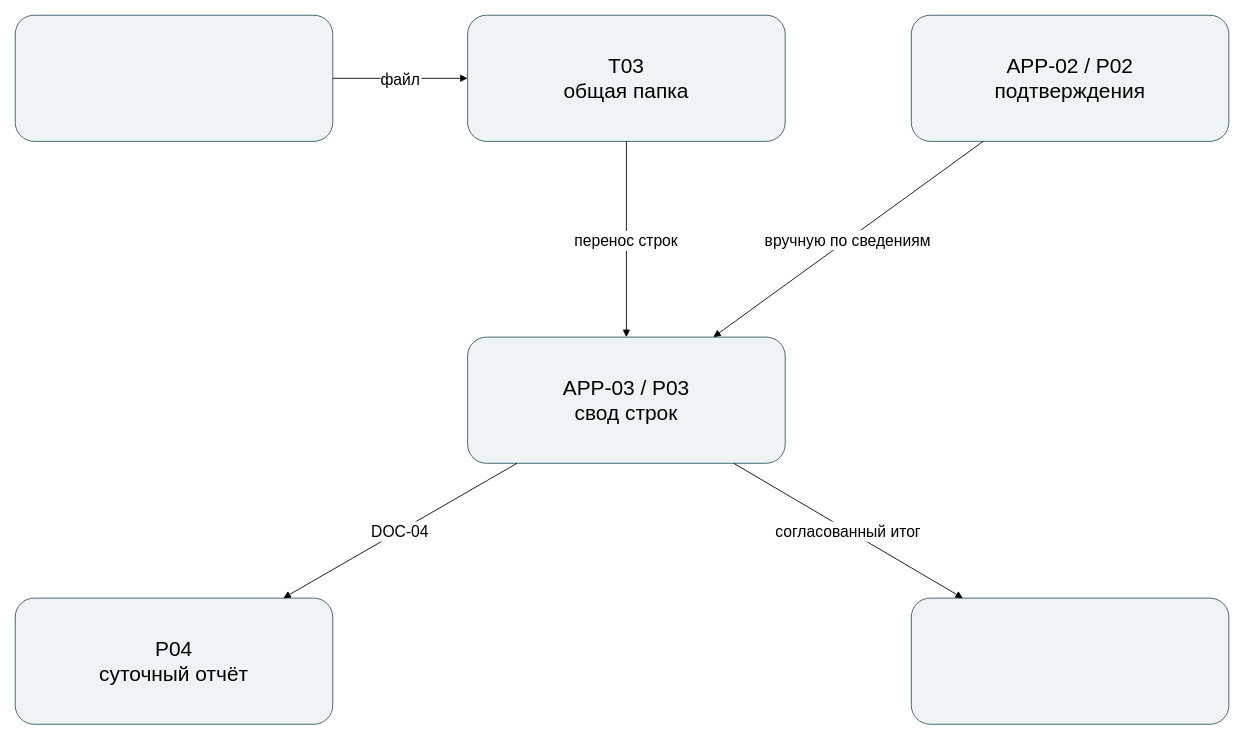
Image size: 1244x740. Some labels were removed from this diagram. Each missing label, with the centre of its shape:
"APP-01 / Р01 файл выдач" belongs at pixel 173 77.
"APP-04 внешний контур" belongs at pixel 1069 660.
